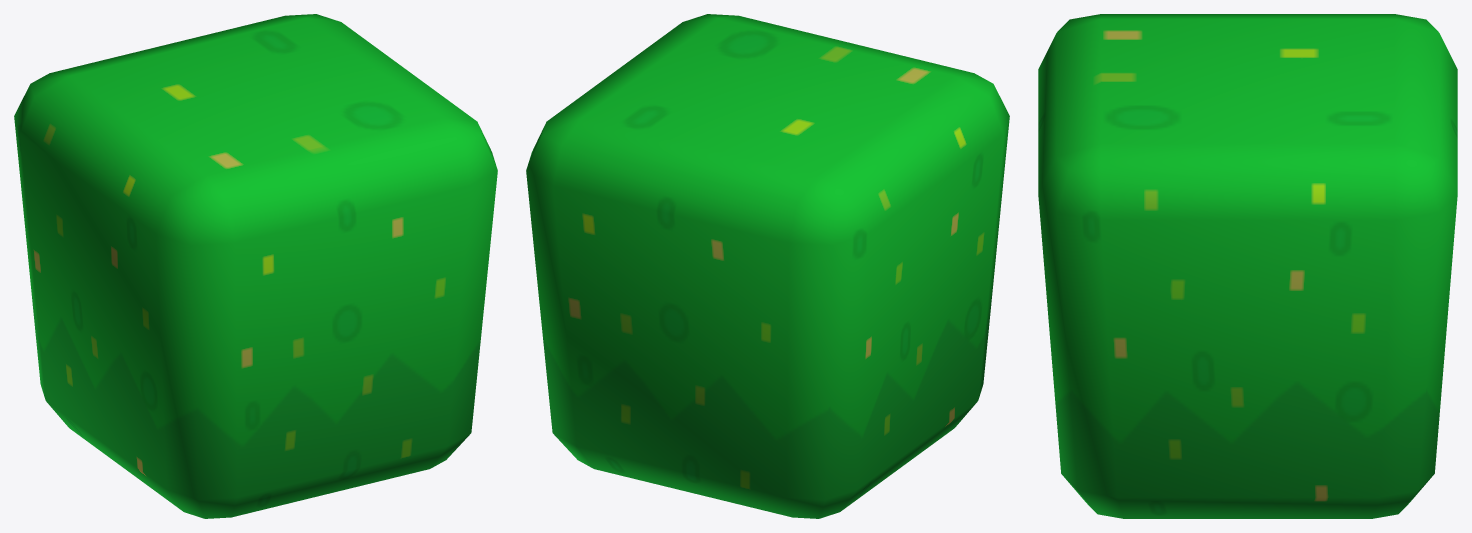
The model's file is BG_001_tree.FBX.
3 renders of one model, left to right at view 1: azimuth 30°, elevation 25°; view 2: azimuth 150°, elevation 25°; view 3: azimuth 270°, elevation 25°, orthographic. The views are drawn at different scales.
Parts seen in each view (by area): view 1: BG_001_tree; view 2: BG_001_tree; view 3: BG_001_tree.
Boxes of the visible parts, box(x1,y1,x2,y2) form: BG_001_tree: box(14, 14, 497, 518); BG_001_tree: box(526, 14, 1009, 518); BG_001_tree: box(1038, 14, 1457, 518).
Bounding box in the file's own units: 200 × 200 × 200.
